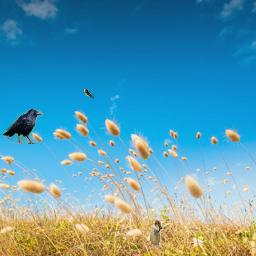Crow: (3, 109, 43, 144)
Sparrow: (149, 220, 162, 248)
Swallow: (84, 89, 94, 99)
